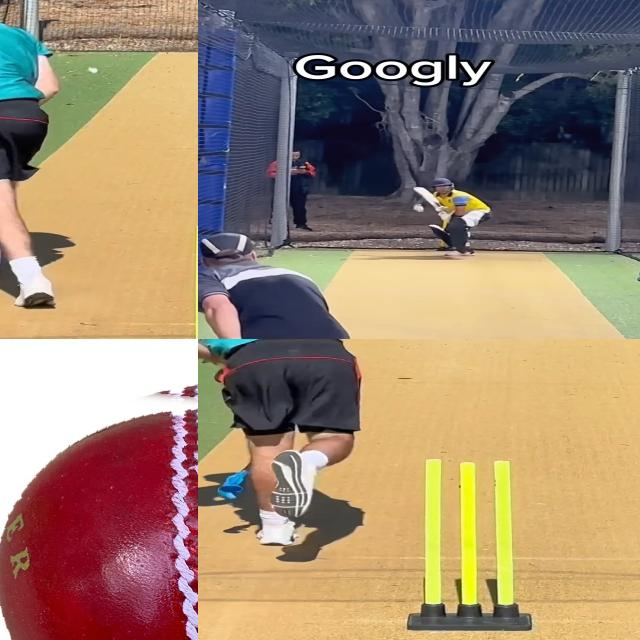Cricket ball: (0, 373, 198, 640), (86, 66, 100, 74), (412, 204, 425, 212)
Stumps: (407, 454, 532, 632)
